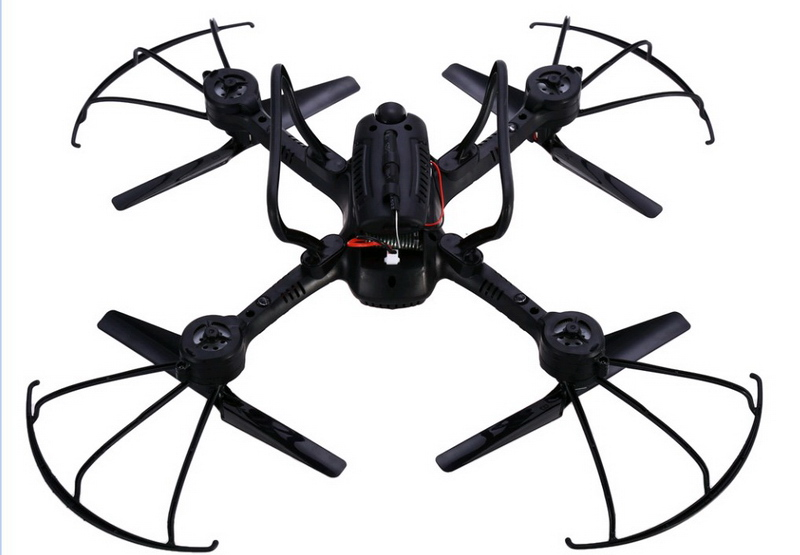drone: (25, 15, 764, 554)
